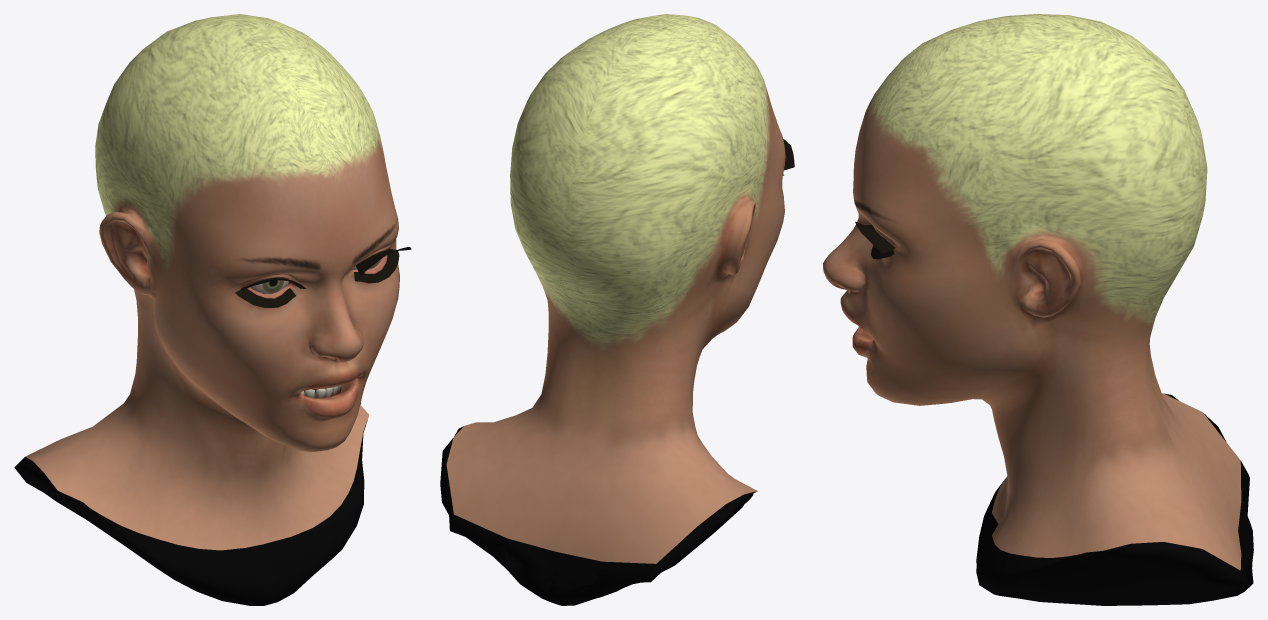
The model's file is Head_ff.obj.
3 renders of one model, left to right at view 1: azimuth 30°, elevation 25°; view 2: azimuth 150°, elevation 25°; view 3: azimuth 270°, elevation 25°, orthographic. The views are drawn at different scales.
Parts seen in each view (by area): view 1: BodyParts; view 2: BodyParts; view 3: BodyParts.
Part boxes in pixels (x1,y1,x2,y2): BodyParts: (14,14,411,605); BodyParts: (440,14,794,605); BodyParts: (823,14,1253,605).
Size of the model in its own units: 21.19 by 35.94 by 24.44.
2 materials, 2 textured.
